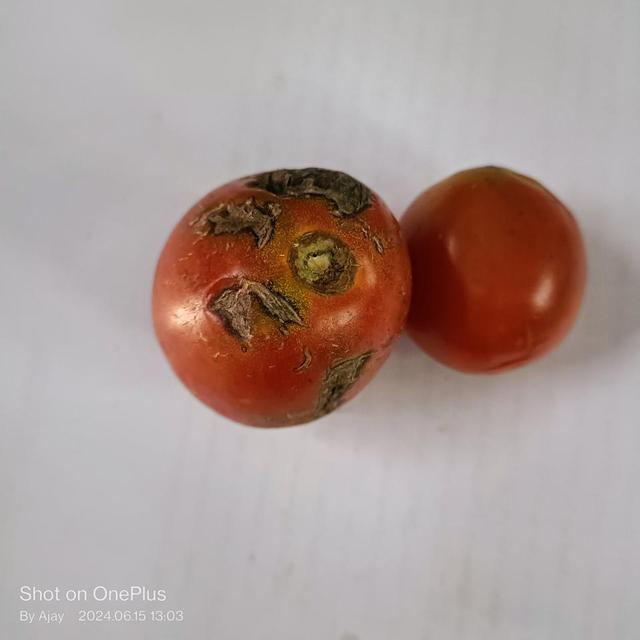Bacterial Spot Fruit: (10, 9, 252, 252)
